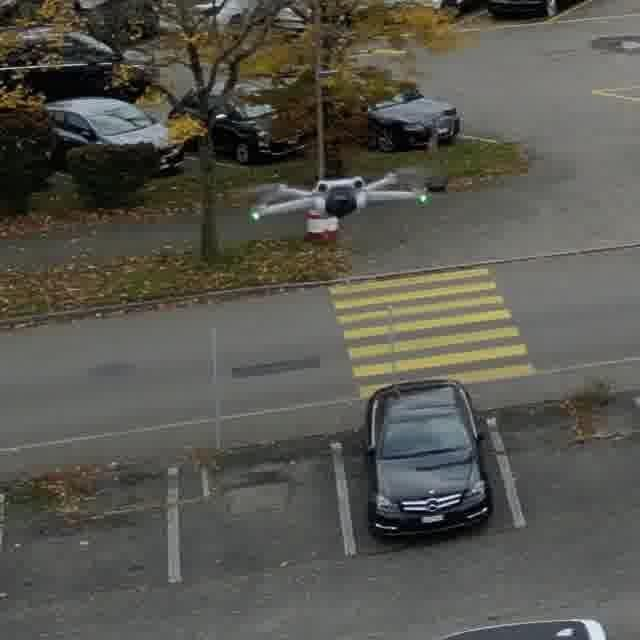Drohne: (250, 167, 428, 220)
